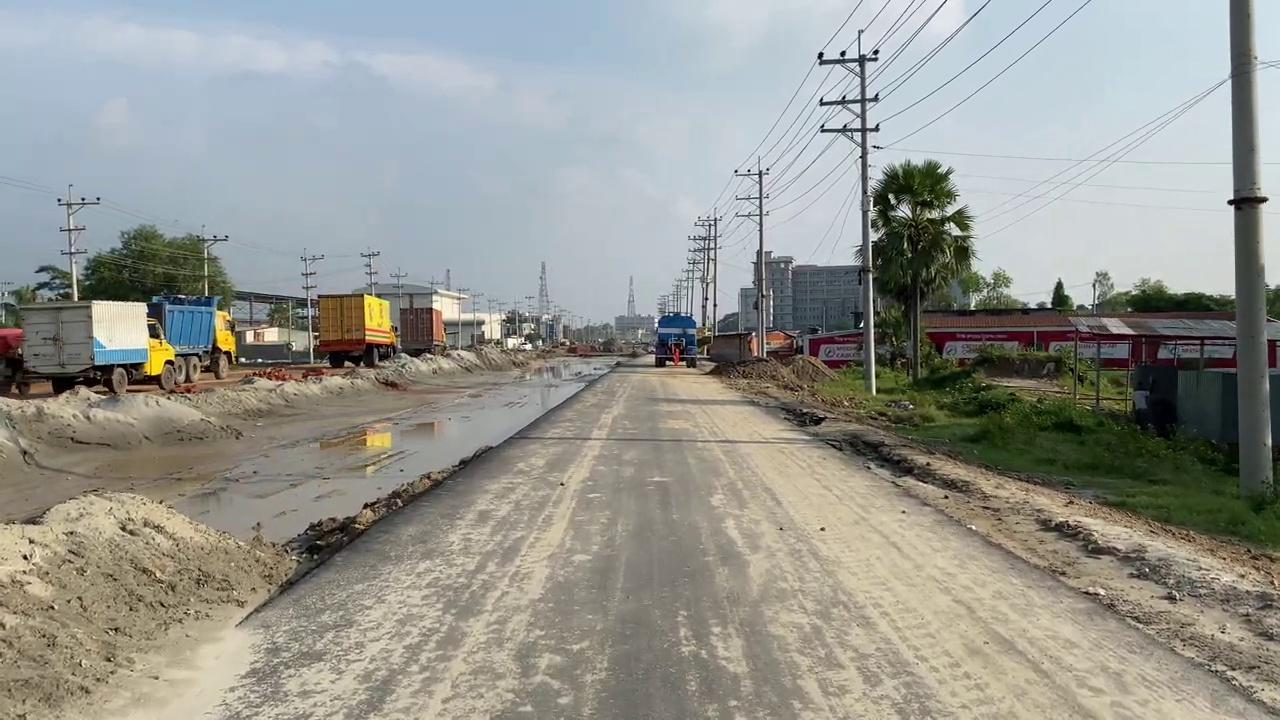Pole: (816, 29, 881, 395), (1227, 0, 1273, 502)
Traffic-sign: (852, 156, 979, 382)
Tree: (2, 298, 186, 395), (147, 292, 237, 381), (314, 292, 399, 368), (653, 311, 698, 367), (398, 305, 447, 356), (0, 326, 26, 393)
